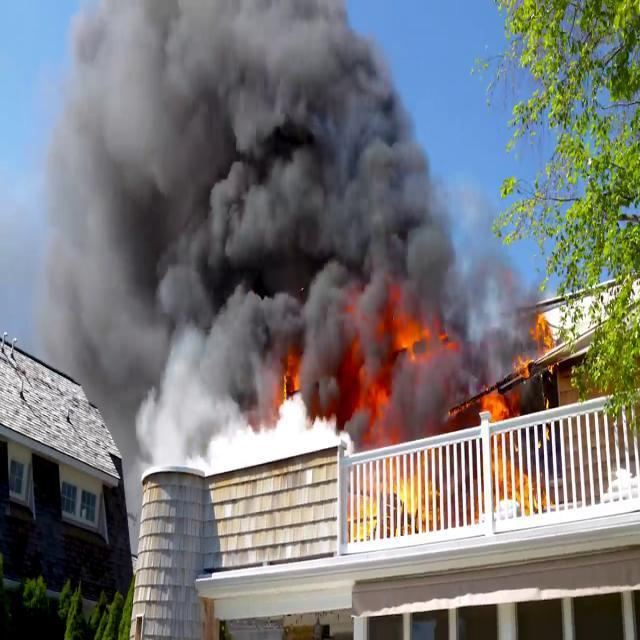Fire: (346, 303, 418, 448), (474, 387, 514, 447), (531, 313, 559, 372)
Smoke: (39, 1, 558, 456)
